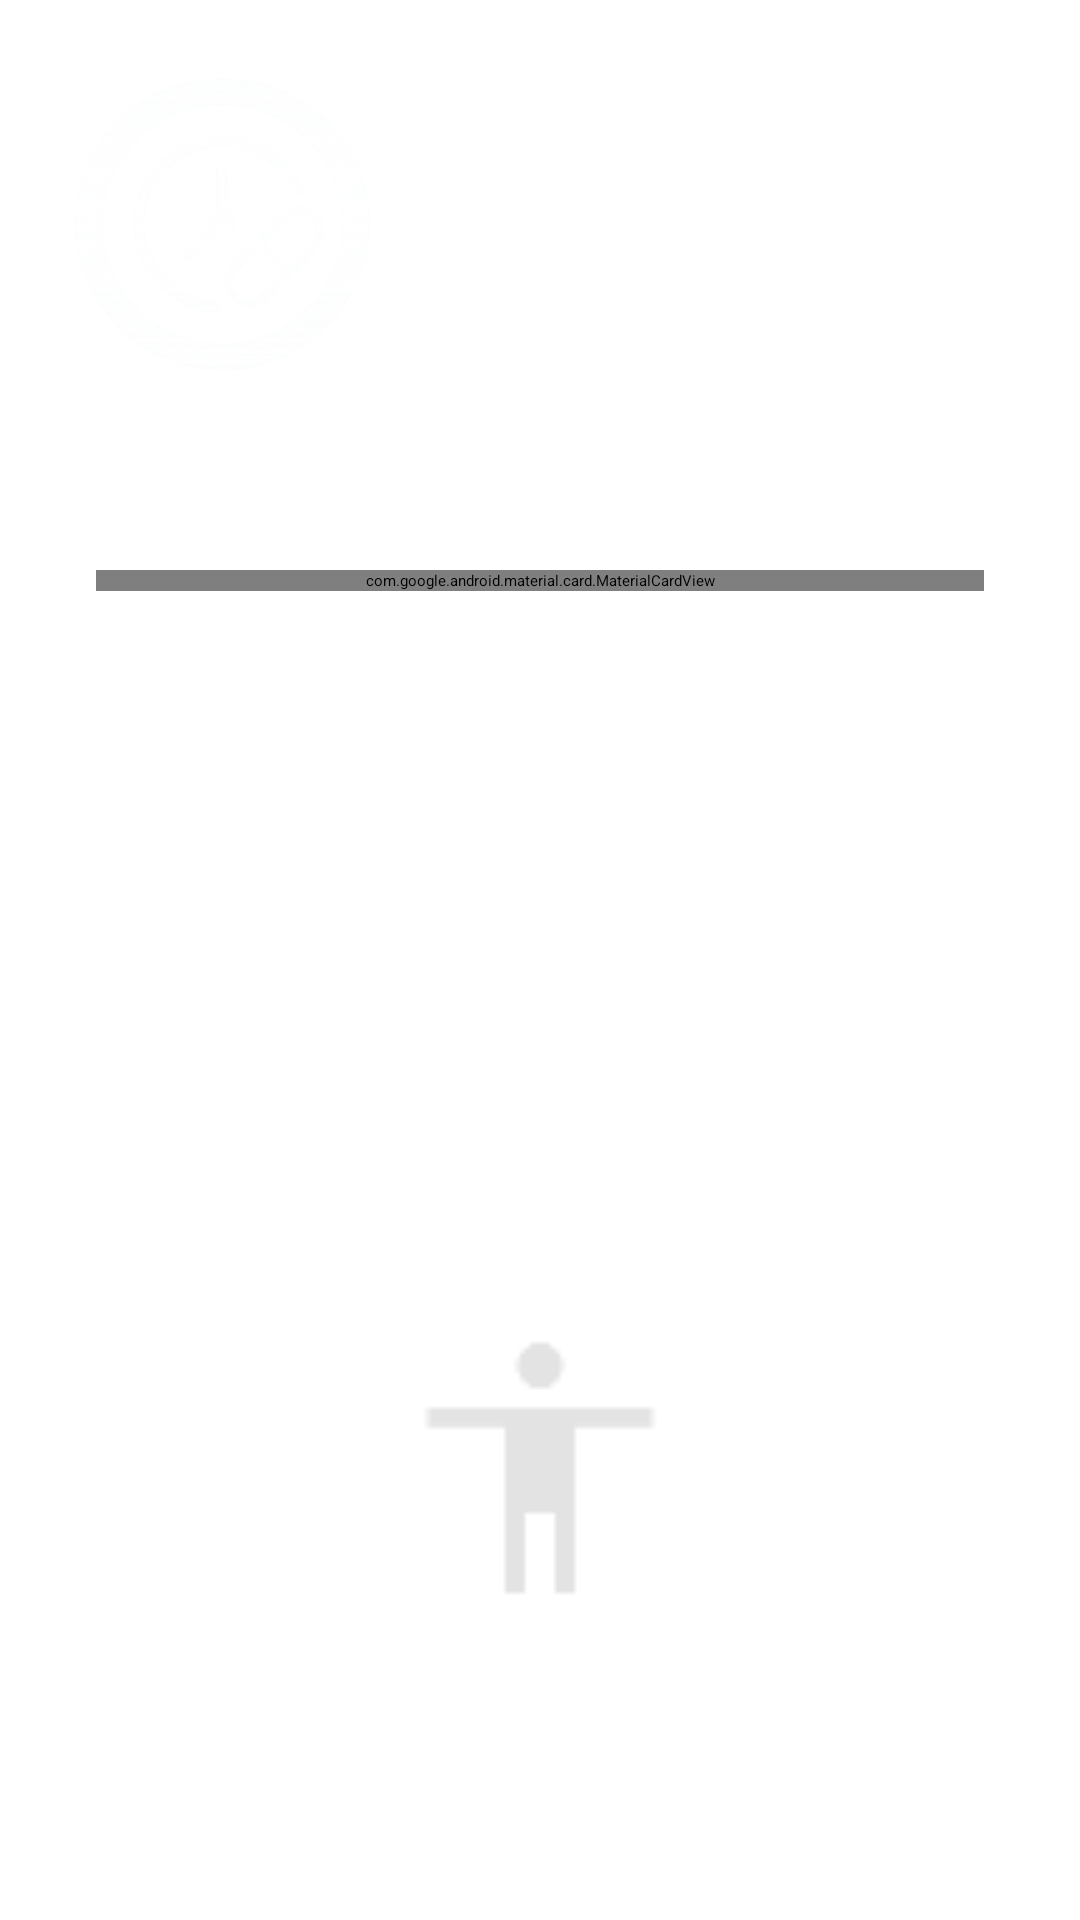

Where to tap for icons on this 1080 x 1920 app screen, as [x,y]:
Perfil: [540,1468]
